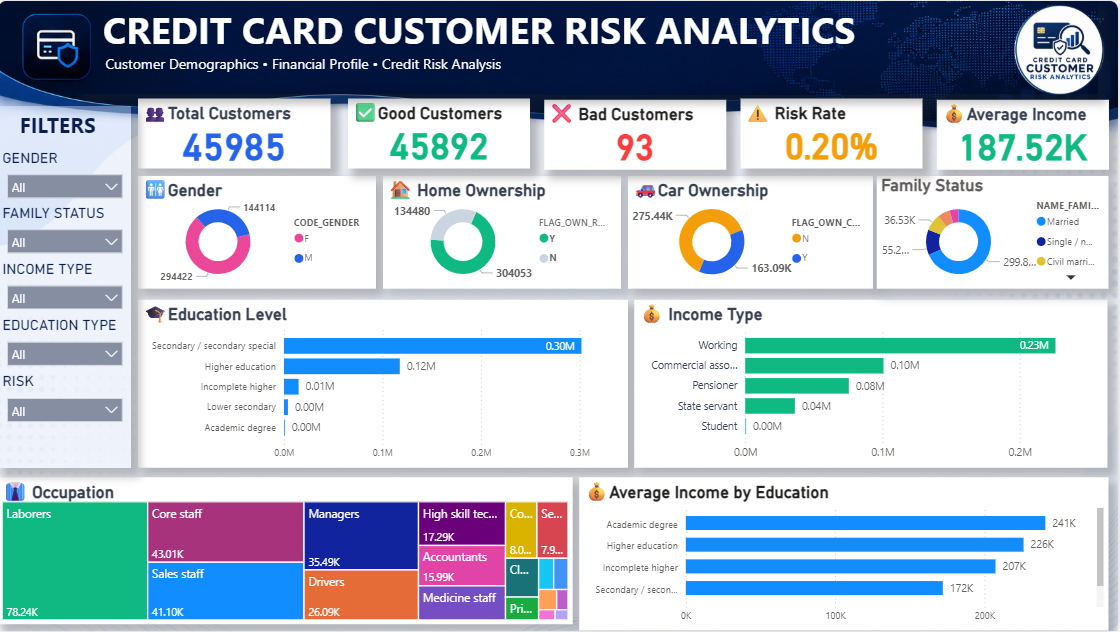

This screenshot's page, from the dashboard's own definition file:
{"tool":"powerbi","page":{"name":"Dashboard","canvas":[1280,720],"ordinal":0},"visuals":[{"type":"card","title":"👥Total Customers","fields":{"Values":["Customer_Summary.Total Customers"]},"box":[160,112,220,80],"z":0},{"type":"card","title":" 💰Average Income","fields":{"Values":["Avg(application_record.AMT_INCOME_TOTAL)"]},"box":[1072.2,112.2,196.7,80],"z":1000},{"type":"donutChart","title":"🚻Gender ","fields":{"Y":["Count(application_record.ID)"],"Category":["application_record.CODE_GENDER"]},"box":[160,200,272.2,128.9],"z":2000},{"type":"donutChart","title":"🏠 Home Ownership","fields":{"Category":["application_record.FLAG_OWN_REALTY"],"Y":["Count(application_record.ID)"]},"box":[440,200,272.2,128.9],"z":3000},{"type":"donutChart","title":"🚗Car Ownership","fields":{"Category":["application_record.FLAG_OWN_CAR"],"Y":["Count(application_record.ID)"]},"box":[720,200,280,128.9],"z":4000},{"type":"clusteredBarChart","title":"🎓Education Level ","fields":{"Category":["application_record.NAME_EDUCATION_TYPE"],"Y":["Count(application_record.ID)"]},"box":[160,341.1,560,192.2],"z":5000},{"type":"treemap","title":"👔 Occupation ","fields":{"Group":["application_record.OCCUPATION_TYPE"],"Values":["Count(application_record.ID)"]},"box":[0,544.4,656.7,167.8],"z":6000},{"type":"clusteredBarChart","title":"💰 Income Type","fields":{"Category":["application_record.NAME_INCOME_TYPE"],"Y":["Count(application_record.ID)"]},"box":[727.8,341.1,541.1,192.2],"z":7000},{"type":"donutChart","title":"Family Status","fields":{"Y":["Count(application_record.ID)"],"Category":["application_record.NAME_FAMILY_STATUS"]},"box":[1004.4,200,264.4,128.9],"z":8000},{"type":"clusteredBarChart","title":"💰Average Income by Education","fields":{"Category":["application_record.NAME_EDUCATION_TYPE"],"Y":["Avg(application_record.AMT_INCOME_TOTAL)"]},"box":[664.4,544.4,604.4,175.6],"z":9000},{"type":"card","title":"✅Good Customers","fields":{"Values":["Customer_Summary.Good Customers"]},"box":[400,112,208,80],"z":10000},{"type":"card","title":"❌ Bad Customers","fields":{"Values":["Customer_Summary.Bad Customers"]},"box":[624.4,112.2,207.8,80],"z":11000},{"type":"card","title":"⚠️ Risk Rate","fields":{"Values":["Customer_Summary.Risk Rate %"]},"box":[848,112,208,80],"z":12000},{"type":"shape","box":[0,120,152.2,413.3],"z":13000},{"type":"slicer","title":"GENDER","fields":{"Values":["application_record.CODE_GENDER"]},"box":[0,168,152,64],"z":14000},{"type":"slicer","title":"INCOME TYPE","fields":{"Values":["application_record.NAME_INCOME_TYPE"]},"box":[0,296,152,56],"z":15000},{"type":"slicer","title":"EDUCATION TYPE","fields":{"Values":["application_record.NAME_EDUCATION_TYPE"]},"box":[0,360,152,64],"z":16000},{"type":"slicer","title":"FAMILY STATUS","fields":{"Values":["application_record.NAME_FAMILY_STATUS"]},"box":[0,232,152,64],"z":17000},{"type":"slicer","title":"RISK","fields":{"Values":["Customer_Summary.Final_Risk"]},"box":[0,424,152,64],"z":18000},{"type":"textbox","box":[91.4,2.9,1165.7,104.3],"z":19000},{"type":"textbox","box":[0,120,152,48],"z":20000},{"type":"image","box":[1145.6,0,134.4,112.2],"z":21000}]}

Visuals, with their boxes in screenshot pixels (x1, y1, x2, y2), scaled from the page's 1280x720 canvas onto the 1120x632 screenshot:
"👥Total Customers" card: bbox=(140, 98, 332, 169)
" 💰Average Income" card: bbox=(938, 98, 1110, 169)
"🚻Gender " donutChart: bbox=(140, 176, 378, 289)
"🏠 Home Ownership" donutChart: bbox=(385, 176, 623, 289)
"🚗Car Ownership" donutChart: bbox=(630, 176, 875, 289)
"🎓Education Level " clusteredBarChart: bbox=(140, 299, 630, 468)
"👔 Occupation " treemap: bbox=(0, 478, 575, 625)
"💰 Income Type" clusteredBarChart: bbox=(637, 299, 1110, 468)
"Family Status" donutChart: bbox=(879, 176, 1110, 289)
"💰Average Income by Education" clusteredBarChart: bbox=(581, 478, 1110, 631)
"✅Good Customers" card: bbox=(350, 98, 532, 169)
"❌ Bad Customers" card: bbox=(546, 98, 728, 169)
"⚠️ Risk Rate" card: bbox=(742, 98, 924, 169)
shape: bbox=(0, 105, 133, 468)
"GENDER" slicer: bbox=(0, 147, 133, 204)
"INCOME TYPE" slicer: bbox=(0, 260, 133, 309)
"EDUCATION TYPE" slicer: bbox=(0, 316, 133, 372)
"FAMILY STATUS" slicer: bbox=(0, 204, 133, 260)
"RISK" slicer: bbox=(0, 372, 133, 428)
textbox: bbox=(80, 3, 1100, 94)
textbox: bbox=(0, 105, 133, 147)
image: bbox=(1002, 0, 1119, 98)
